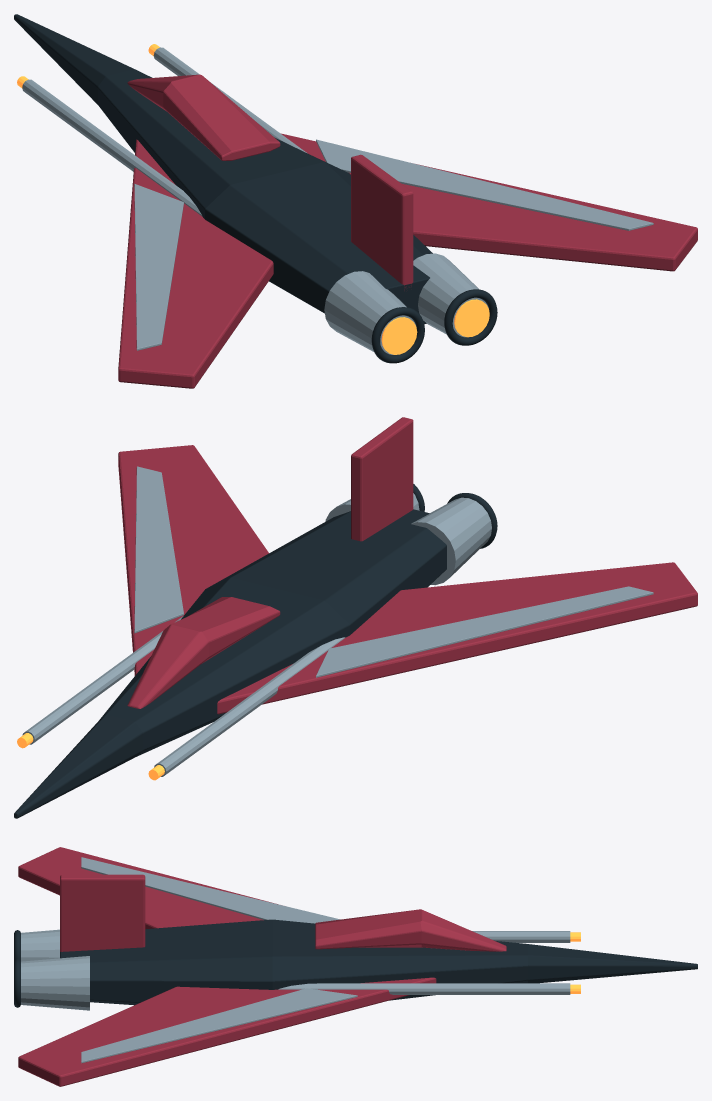
File: ekaitz_interceptor.glb
3 renders of one model, top to bottom at view 1: azimuth 30°, elevation 25°; view 2: azimuth 150°, elevation 25°; view 3: azimuth 270°, elevation 25°, orthographic. The views are drawn at different scales.
Parts seen in each view (by area): view 1: Geometry_ekaitz_interceptor; view 2: Geometry_ekaitz_interceptor; view 3: Geometry_ekaitz_interceptor.
Part boxes in pixels (<box>): Geometry_ekaitz_interceptor: <box>14,14,697,388</box>; Geometry_ekaitz_interceptor: <box>14,417,697,818</box>; Geometry_ekaitz_interceptor: <box>14,847,697,1086</box>.
Bounding box in the file's own units: 12.77 × 3.1 × 16.08.
